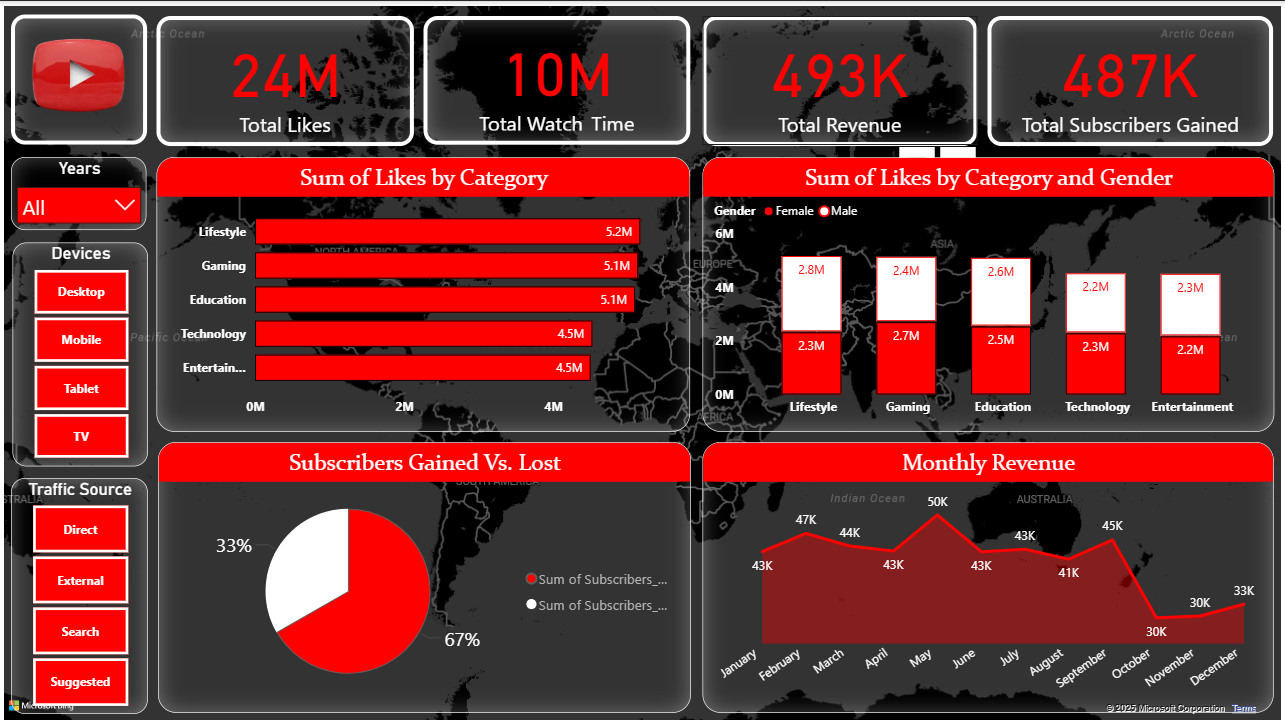

The dashboard page shown, as its layout file describes it:
{"tool":"powerbi","page":{"name":"KPIs","canvas":[1280,720],"ordinal":1},"visuals":[{"type":"map","fields":{"Size":["All Measures.Total Subscribers Gained"]},"box":[0,0,1280,720],"z":0},{"type":"card","fields":{"Values":["All Measures.Total_Likes"]},"box":[156.3,14.2,255.8,129.5],"z":2000},{"type":"card","fields":{"Values":["All Measures.Total Watch_Time"]},"box":[421.6,14.2,265.3,127.9],"z":3000},{"type":"card","fields":{"Values":["All Measures.Total Subscribers Gained"]},"box":[983.7,14.2,284.2,129.5],"z":4000},{"type":"card","fields":{"Values":["All Measures.Total Revenue"]},"box":[699.5,14.2,273.2,129.5],"z":5000},{"type":"barChart","fields":{"Category":["YouTube_Analytics_2023.Category"],"Y":["Sum(YouTube_Analytics_2023.Likes)"]},"box":[156.3,154.7,530.5,273.2],"z":6000},{"type":"columnChart","fields":{"Category":["YouTube_Analytics_2023.Category"],"Y":["Sum(YouTube_Analytics_2023.Likes)"],"Series":["YouTube_Analytics_2023.Gender"]},"box":[699.5,154.7,568.4,273.2],"z":7000},{"type":"pieChart","title":"Subscribers Gained Vs. Lost","fields":{"Y":["Sum(YouTube_Analytics_2023.Subscribers_Gained)","Sum(YouTube_Analytics_2023.Subscribers_Lost)"]},"box":[157.5,439.1,530,269.5],"z":8000},{"type":"slicer","title":"Years","fields":{"Values":["YouTube_Analytics_2023.Published_Date.Variation.Date Hierarchy.Year"]},"box":[12.1,154.4,134.8,72.7],"z":9000},{"type":"image","box":[12.1,13.6,135,129],"z":10000},{"type":"areaChart","title":"Monthly Revenue","fields":{"Category":["YouTube_Analytics_2023.Published_Date.Variation.Date Hierarchy.Month"],"Y":["All Measures.Total Revenue"]},"box":[699.6,439.1,567.8,269.5],"z":11000},{"type":"slicer","title":"Devices","fields":{"Values":["YouTube_Analytics_2023.Device_Type"]},"box":[13.6,240.8,134.8,222.6],"z":12000},{"type":"slicer","title":"Traffic Source","fields":{"Values":["YouTube_Analytics_2023.Traffic_Source"]},"box":[12.1,473.9,136.3,234.7],"z":13001}]}

Visuals, with their boxes in screenshot pixels (x1, y1, x2, y2), scaled from the page's 1280x720 canvas onto the 1285x723 screenshot:
map - All Measures.Total Subscribers Gained: x1=0 y1=0 x2=1284 y2=722
card - All Measures.Total_Likes: x1=157 y1=14 x2=414 y2=144
card - All Measures.Total Watch_Time: x1=423 y1=14 x2=690 y2=143
card - All Measures.Total Subscribers Gained: x1=988 y1=14 x2=1273 y2=144
card - All Measures.Total Revenue: x1=702 y1=14 x2=976 y2=144
barChart - YouTube_Analytics_2023.Category x Sum(YouTube_Analytics_2023.Likes): x1=157 y1=155 x2=689 y2=430
columnChart - YouTube_Analytics_2023.Category x Sum(YouTube_Analytics_2023.Likes): x1=702 y1=155 x2=1273 y2=430
"Subscribers Gained Vs. Lost" pieChart: x1=158 y1=441 x2=690 y2=712
"Years" slicer: x1=12 y1=155 x2=147 y2=228
image: x1=12 y1=14 x2=148 y2=143
"Monthly Revenue" areaChart: x1=702 y1=441 x2=1272 y2=712
"Devices" slicer: x1=14 y1=242 x2=149 y2=465
"Traffic Source" slicer: x1=12 y1=476 x2=149 y2=712
